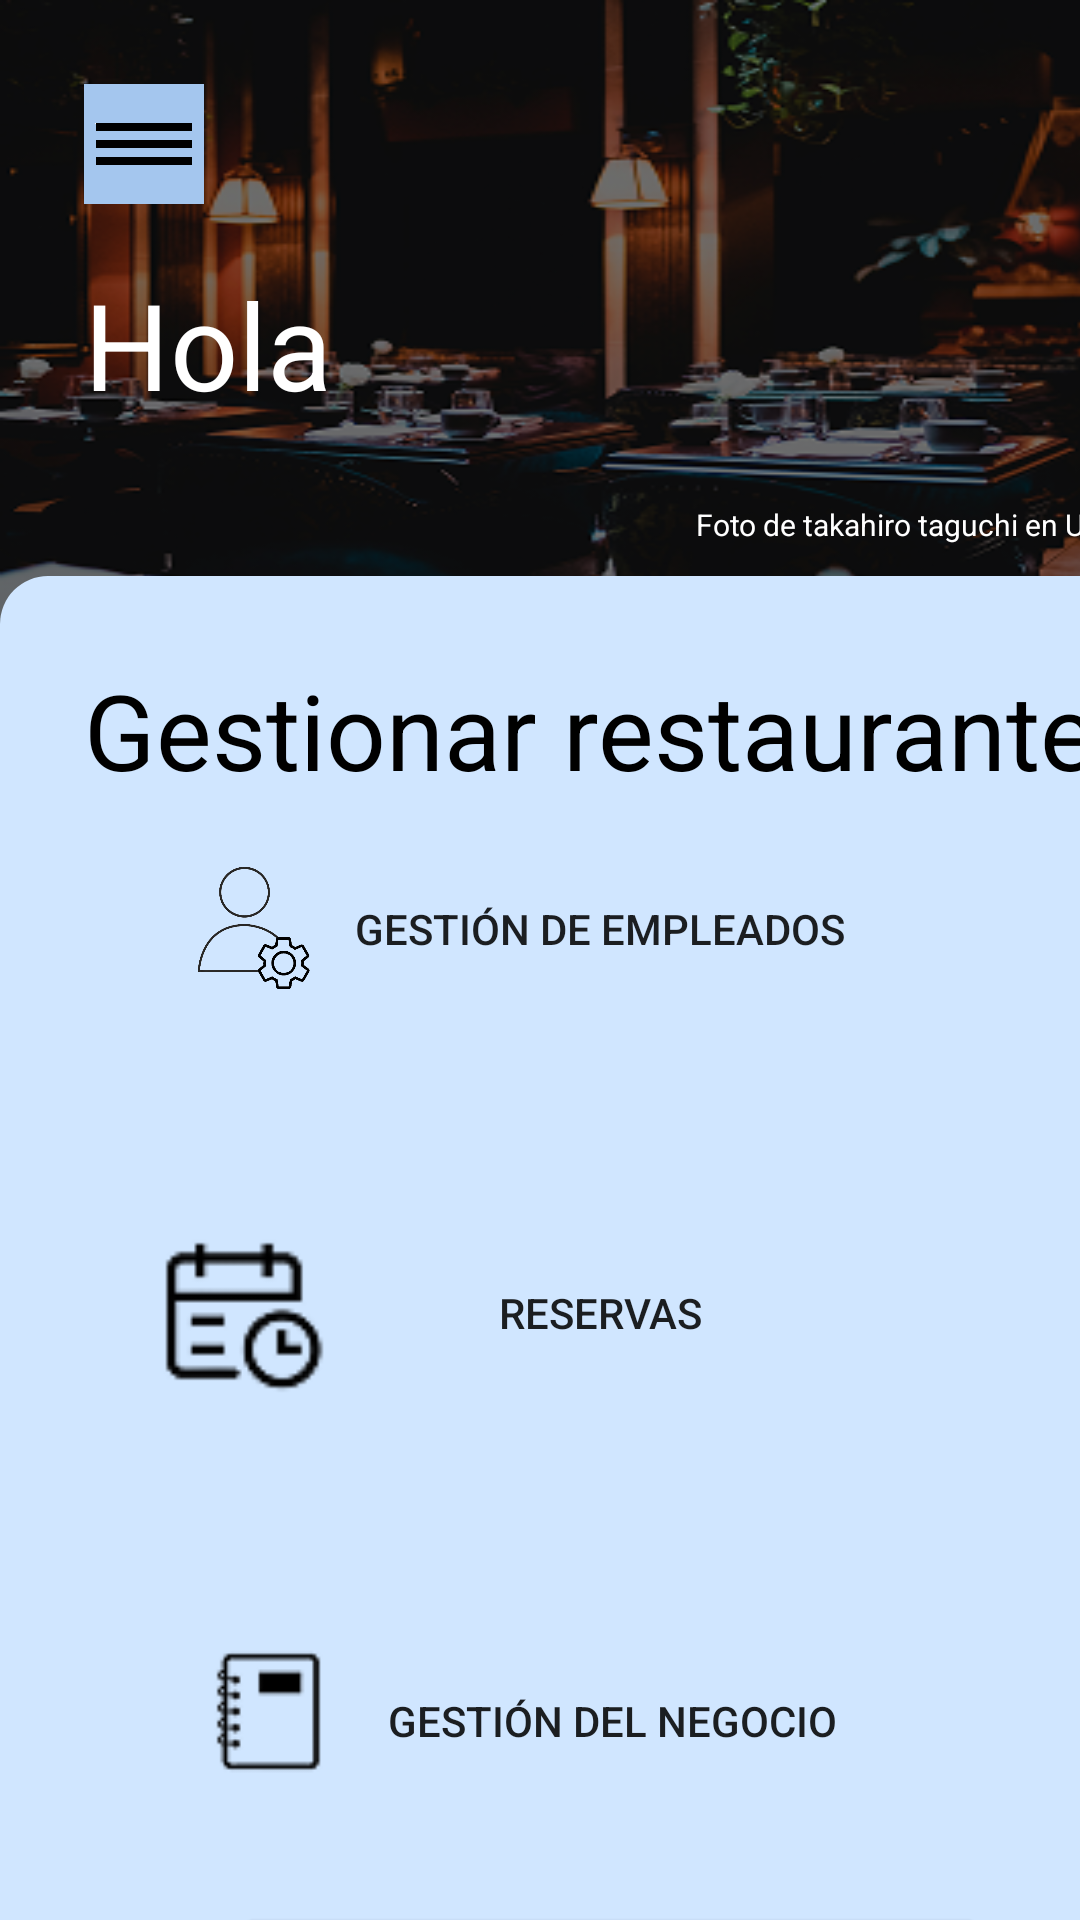

Icon click points for this 1080x1920 phone screenshot, format point (x, y):
calendario: point (244, 1315)
gestion empleados: point (254, 928)
menu: point (144, 144)
